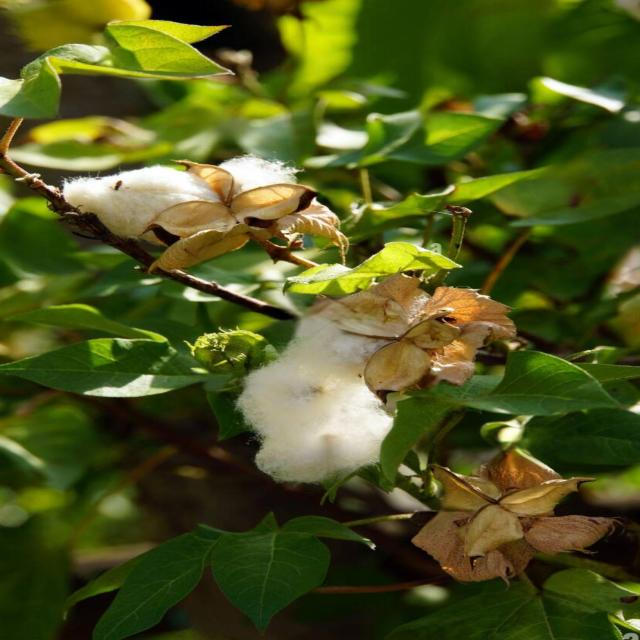Early_blight: (229, 260, 481, 488), (50, 143, 339, 282)
